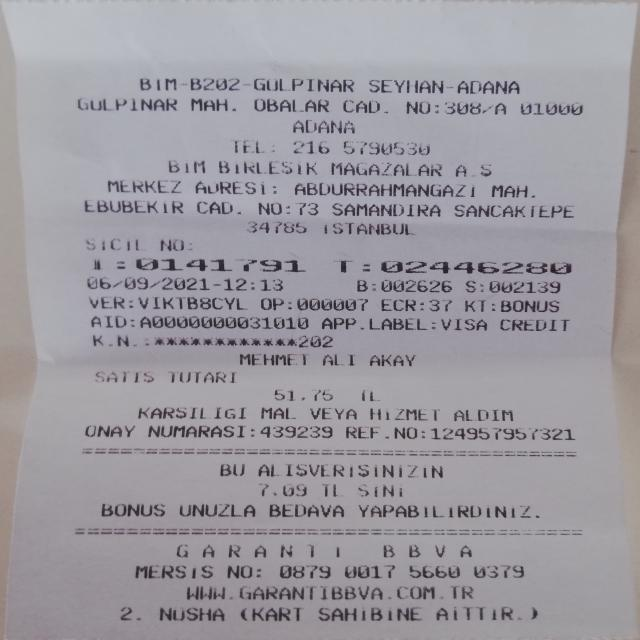text: (186, 582, 472, 601), (346, 423, 574, 442), (381, 255, 570, 277), (294, 178, 473, 200), (136, 252, 304, 275), (258, 459, 442, 480), (177, 540, 339, 560), (358, 503, 530, 520), (454, 200, 573, 220), (331, 158, 441, 179), (218, 156, 317, 178), (332, 199, 439, 219), (78, 93, 176, 114), (253, 75, 353, 95), (84, 196, 182, 216), (138, 404, 245, 421), (316, 605, 422, 622), (148, 422, 244, 440), (344, 138, 428, 158), (321, 315, 426, 331), (378, 543, 481, 559), (138, 295, 246, 310), (135, 561, 212, 581), (254, 96, 328, 116), (108, 175, 180, 195), (325, 220, 413, 236), (269, 500, 343, 519), (180, 500, 253, 519), (370, 76, 438, 95), (160, 603, 224, 623), (161, 276, 246, 291), (520, 98, 582, 118), (102, 499, 164, 519), (261, 423, 332, 440), (487, 279, 560, 295), (457, 77, 518, 96), (239, 350, 306, 367), (382, 278, 452, 294), (292, 117, 354, 135), (370, 406, 439, 422), (500, 316, 568, 332), (430, 606, 512, 619), (84, 235, 146, 252), (491, 298, 559, 313), (189, 74, 239, 94), (280, 561, 330, 581), (409, 561, 459, 581), (474, 561, 524, 581), (170, 369, 235, 384), (252, 603, 300, 623), (299, 297, 367, 311), (343, 563, 399, 580), (274, 387, 332, 403), (454, 406, 512, 422), (96, 368, 153, 384), (85, 421, 134, 439), (248, 219, 306, 234), (259, 480, 305, 498), (310, 405, 356, 422), (356, 482, 406, 497), (370, 351, 414, 368), (137, 74, 175, 93), (343, 96, 379, 116), (455, 160, 490, 180), (441, 316, 486, 331), (491, 181, 526, 200), (293, 138, 329, 156), (196, 198, 232, 216), (192, 95, 226, 114), (89, 333, 130, 348), (297, 332, 329, 350), (234, 137, 264, 156), (261, 405, 294, 421), (322, 351, 353, 368), (90, 314, 126, 328), (442, 100, 478, 114), (298, 333, 333, 347), (227, 561, 251, 581), (89, 295, 123, 309), (381, 297, 412, 312), (406, 97, 428, 117), (258, 198, 280, 218), (220, 459, 242, 479), (120, 603, 140, 623), (160, 236, 182, 253), (318, 482, 340, 498), (300, 198, 317, 218), (124, 276, 147, 290), (356, 389, 380, 402), (88, 276, 110, 290), (260, 276, 282, 290), (432, 298, 452, 312), (260, 296, 278, 310), (462, 280, 478, 293), (465, 298, 478, 312), (182, 75, 191, 93), (358, 278, 368, 294), (446, 77, 454, 95), (245, 75, 252, 94), (362, 254, 368, 276), (94, 252, 100, 273), (120, 252, 126, 273), (340, 254, 346, 275), (436, 97, 442, 117), (500, 98, 506, 118), (268, 138, 274, 156), (533, 501, 538, 520), (129, 295, 135, 309), (256, 561, 260, 581), (287, 296, 292, 310), (420, 298, 425, 312), (480, 298, 485, 312), (517, 603, 520, 623), (384, 97, 387, 116), (237, 198, 240, 217), (250, 276, 254, 290), (372, 278, 375, 294), (480, 279, 483, 295), (251, 423, 254, 439), (130, 314, 133, 328), (287, 199, 289, 217), (432, 316, 434, 331)
